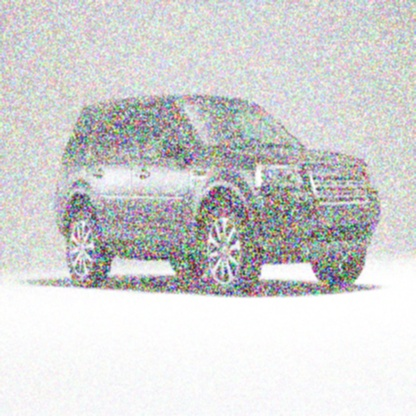Vehicle: (56, 97, 381, 294)
